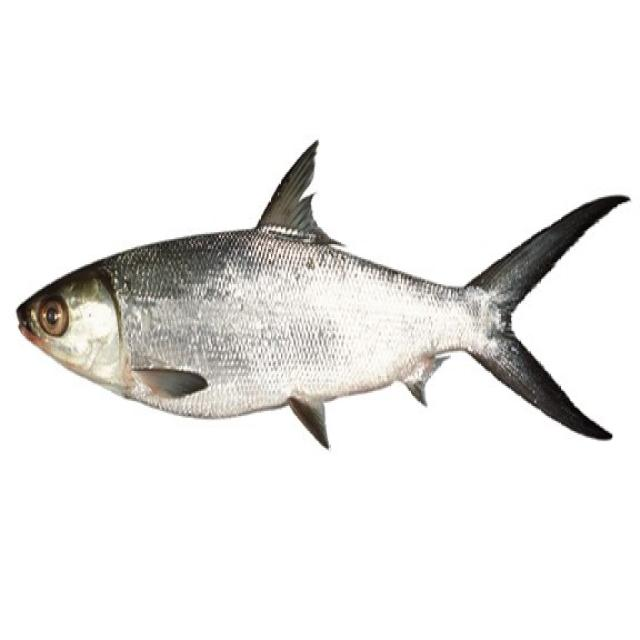Bangus: (6, 145, 640, 474)
